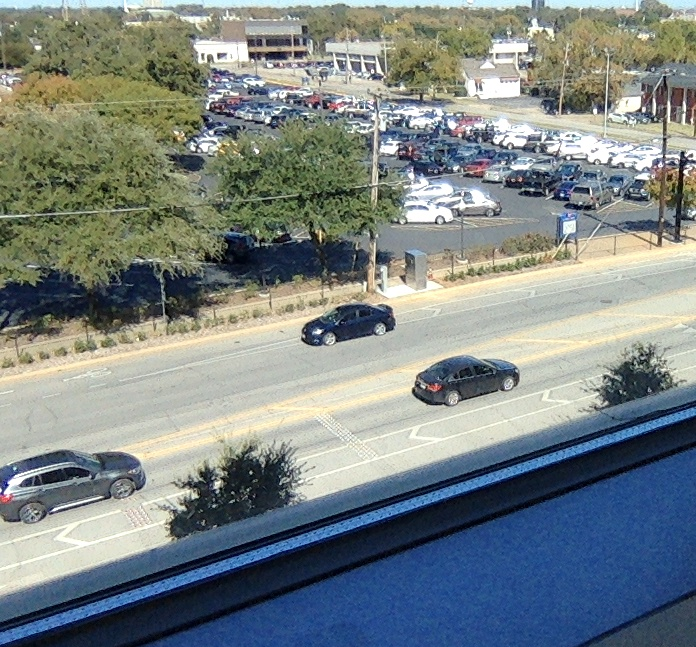car: (300, 300, 396, 347)
